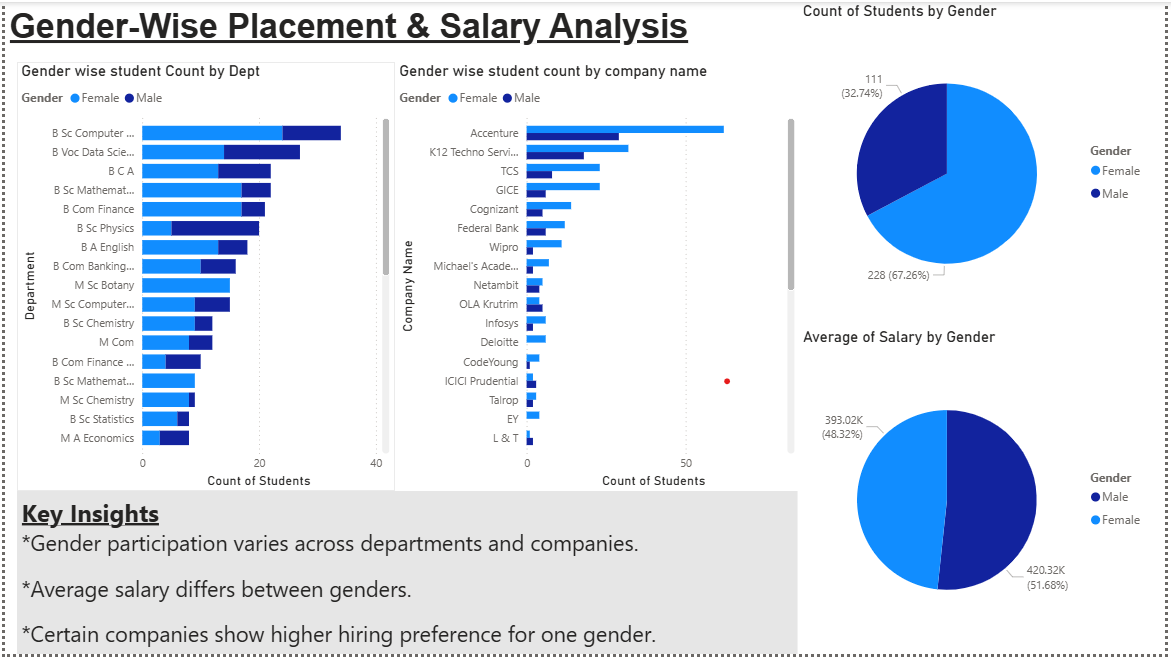

The dashboard page shown, as its layout file describes it:
{"tool":"powerbi","page":{"name":"Gender Wise","canvas":[1280,720],"ordinal":2},"visuals":[{"type":"barChart","title":"Gender wise student Count by Dept","fields":{"Series":["Table 1 (Sheet1).Gender"],"Category":["Table 1 (Sheet1).Department"],"Y":["CountNonNull(Table 1 (Sheet1).ali)"]},"box":[14,66,416,474],"z":0},{"type":"clusteredBarChart","title":"Gender wise student count by company name","fields":{"Category":["Table 1 (Sheet1).Company Name"],"Y":["CountNonNull(Table 1 (Sheet1).Students)"],"Series":["Table 1 (Sheet1).Gender"]},"box":[430,66,446,474],"z":1000},{"type":"pieChart","fields":{"Category":["Table 1 (Sheet1).Gender"],"Y":["Avg(Table 1 (Sheet1).Salary)"]},"box":[876.9,359.1,393.1,360.9],"z":2000},{"type":"pieChart","fields":{"Y":["CountNonNull(Table 1 (Sheet1).Students)"],"Category":["Table 1 (Sheet1).Gender"]},"box":[876.9,0,393.1,359.1],"z":3000},{"type":"textbox","box":[0,0,812,66],"z":4000},{"type":"textbox","box":[14,540,862,180],"z":5000}]}

Visuals, with their boxes in screenshot pixels (x1, y1, x2, y2), scaled from the page's 1280x720 canvas onto the 1171x661 screenshot:
"Gender wise student Count by Dept" barChart: [x1=13, y1=61, x2=393, y2=496]
"Gender wise student count by company name" clusteredBarChart: [x1=393, y1=61, x2=801, y2=496]
pieChart - Table 1 (Sheet1).Gender x Avg(Table 1 (Sheet1).Salary): [x1=802, y1=330, x2=1162, y2=660]
pieChart - CountNonNull(Table 1 (Sheet1).Students) x Table 1 (Sheet1).Gender: [x1=802, y1=0, x2=1162, y2=330]
textbox: [x1=0, y1=0, x2=743, y2=61]
textbox: [x1=13, y1=496, x2=801, y2=660]
